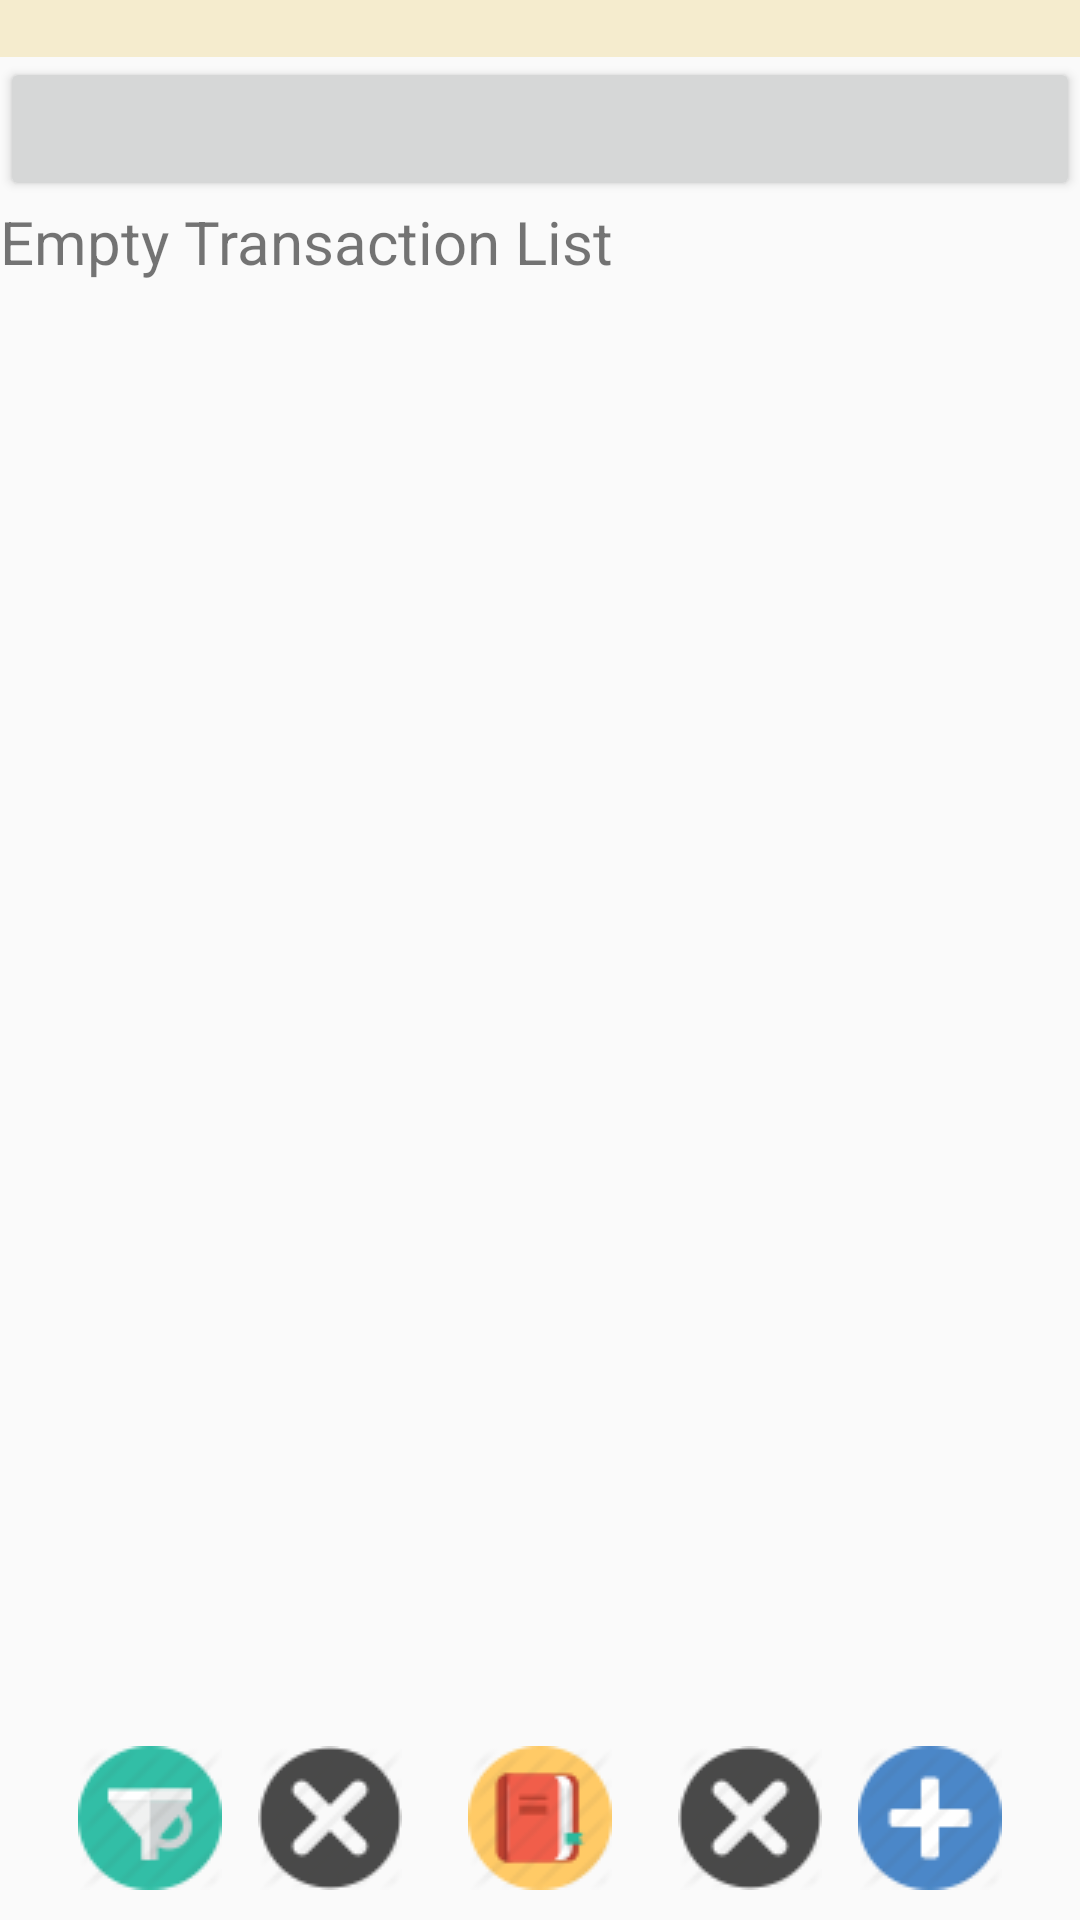

Screen size 1080 × 1920. Icon name, then its center in pixels as (x,y):
add: (930,1818)
close: (330,1818), (750,1818)
filter: (150,1818)
summary: (540,1818)
